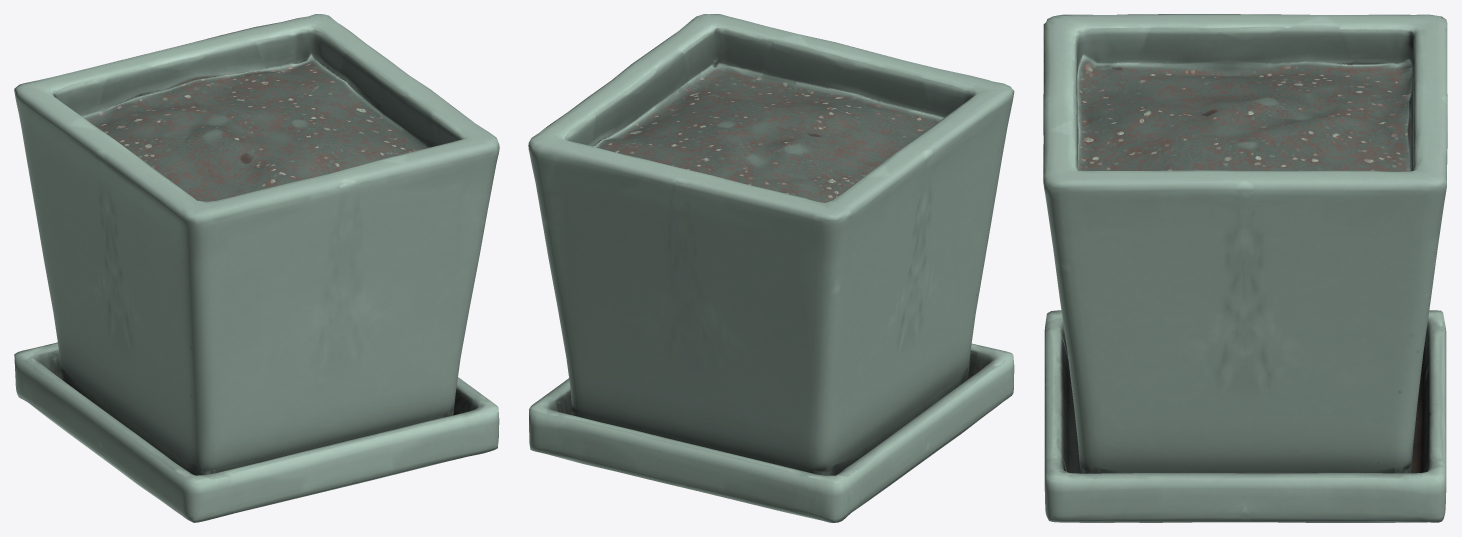
The model's file is pot_concrete_square_c1.glb.
3 renders of one model, left to right at view 1: azimuth 30°, elevation 25°; view 2: azimuth 150°, elevation 25°; view 3: azimuth 270°, elevation 25°, orthographic. The views are drawn at different scales.
Bounding box in the file's own units: 1.99 × 1.87 × 2.
1 material, 1 textured.
